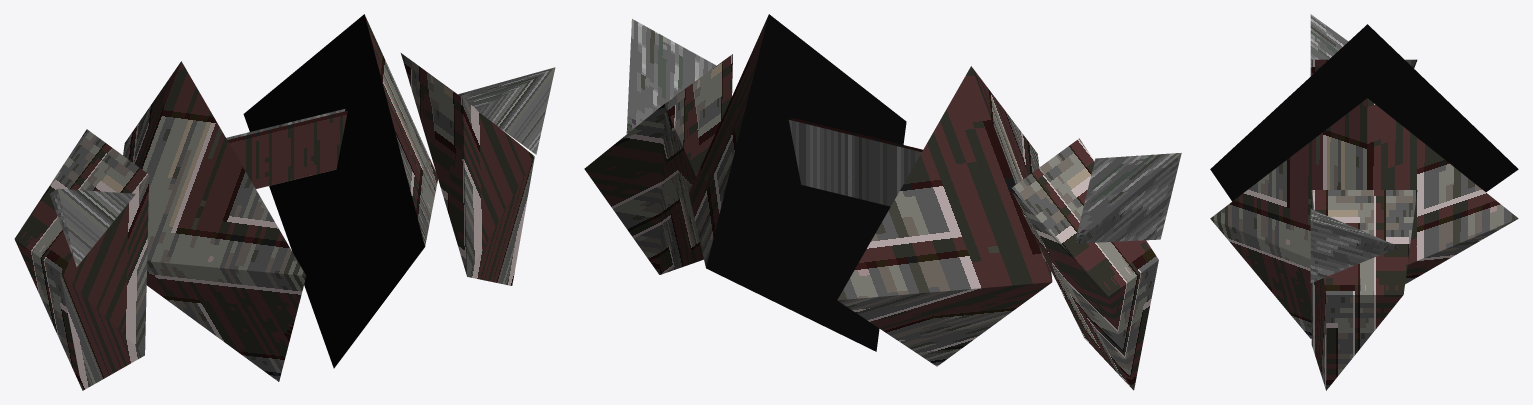
The model's file is model_038_robot_noname.glb.
The picture shows the model from 3 angles, left to right: view 1: azimuth 30°, elevation 25°; view 2: azimuth 150°, elevation 25°; view 3: azimuth 270°, elevation 25°; orthographic projection. The views are drawn at different scales.
Parts seen in each view (by area): view 1: model_038; view 2: model_038; view 3: model_038.
Boxes of the visible parts, left/top/right/bottom form: model_038: left=14, top=14, right=555, bottom=390; model_038: left=584, top=14, right=1181, bottom=390; model_038: left=1210, top=14, right=1518, bottom=390.
Size of the model in its own units: 8 by 4.83 by 5.05.
Materials: 4 (4 with a texture image).
